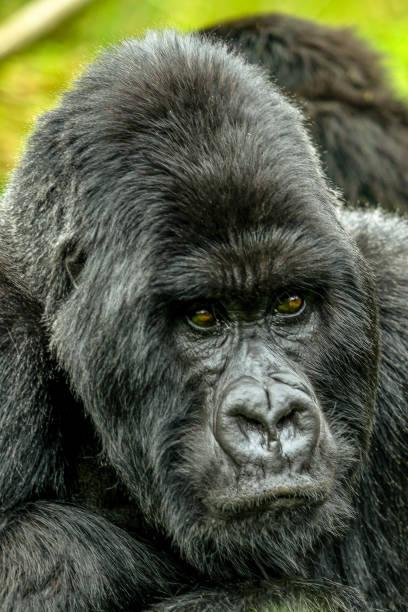goriile_montagne: (0, 5, 408, 612)
